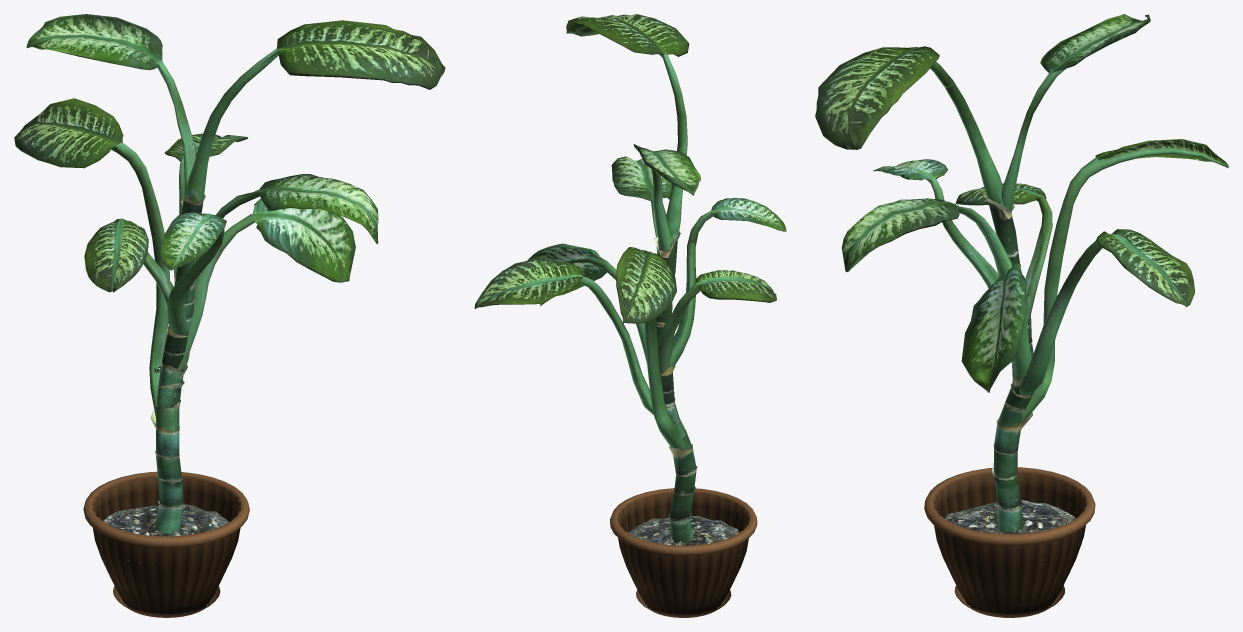
Rendered from plant.dae.
3 views of the same model, side by side, from view 1: azimuth 30°, elevation 25°; view 2: azimuth 150°, elevation 25°; view 3: azimuth 270°, elevation 25° (orthographic). The views are drawn at different scales.
Visible parts, largest first — view 1: Plant, Flowerpot, Terrain; view 2: Plant, Flowerpot, Terrain; view 3: Plant, Flowerpot, Terrain.
Part boxes in pixels (x1,y1,x2,y2): Plant: [14, 14, 445, 533]; Flowerpot: [83, 471, 249, 617]; Terrain: [103, 504, 229, 563]; Plant: [474, 14, 786, 543]; Flowerpot: [610, 488, 757, 617]; Terrain: [628, 516, 739, 545]; Plant: [815, 14, 1228, 531]; Flowerpot: [924, 467, 1095, 617]; Terrain: [945, 500, 1075, 561].
Size of the model in its own units: 0.7227 by 0.8571 by 1.36.
Materials: 3 (2 with a texture image).
